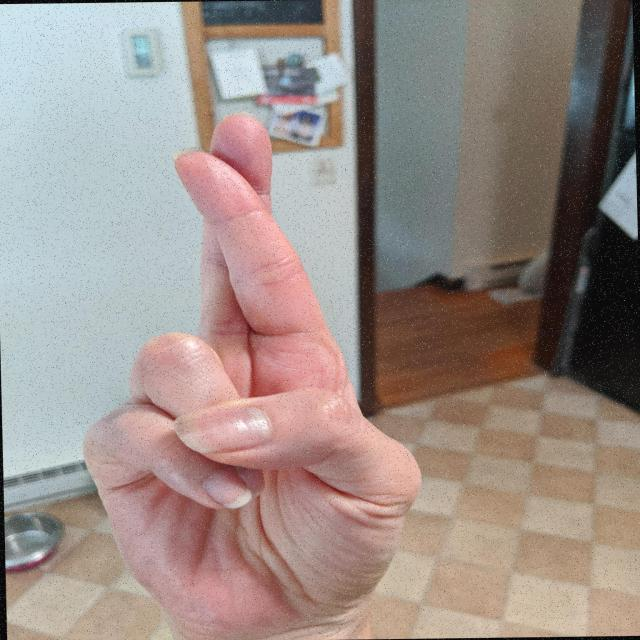R: (70, 103, 435, 640)
